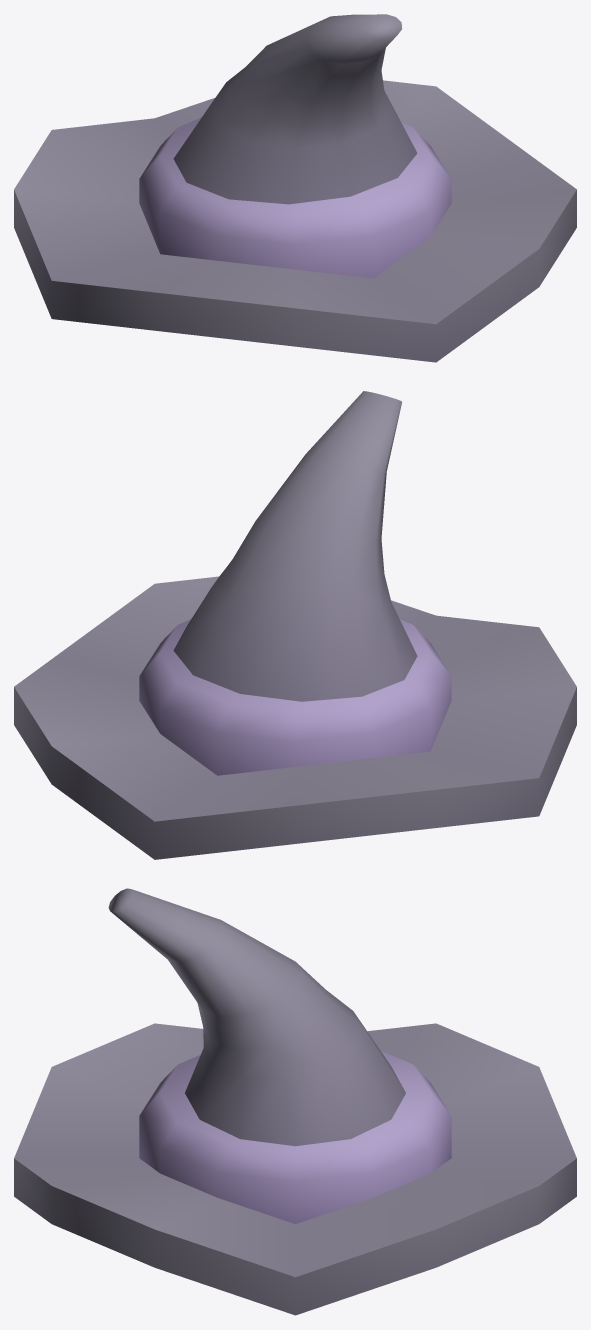
File: witch_hat.glb
3 renders of one model, top to bottom at view 1: azimuth 30°, elevation 25°; view 2: azimuth 150°, elevation 25°; view 3: azimuth 270°, elevation 25°, orthographic.
Visible parts, largest first — view 1: witch_hat; view 2: witch_hat; view 3: witch_hat.
Part boxes in pixels (x1,y1,x2,y2): witch_hat: (14,14,576,362); witch_hat: (14,391,576,859); witch_hat: (14,888,576,1315).
Bounding box in the file's own units: 0.66 × 0.3932 × 0.66.
